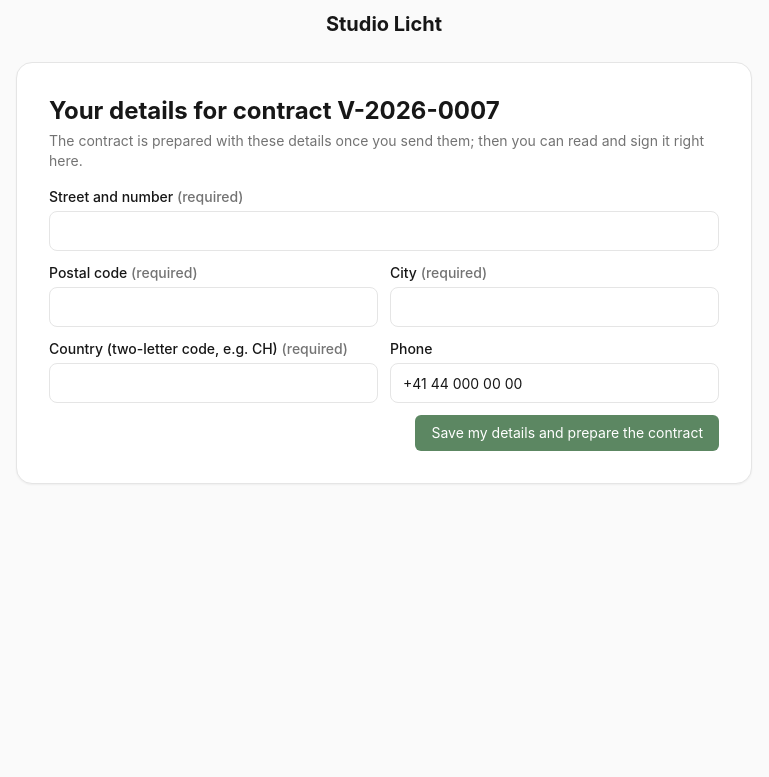
Test: asks for the details first, shows nothing of the contract, then opens it
This screenshot has width=769, height=777.
Expected: the heading "Your details for contract V-2026-0007" is shown, [49, 96, 500, 125]
Expected: the text "Between the studio and the couple." is not shown
Type "Seestrasse 12" into the field labelled "Street and number (required)" at [384, 231], box [49, 211, 719, 251]
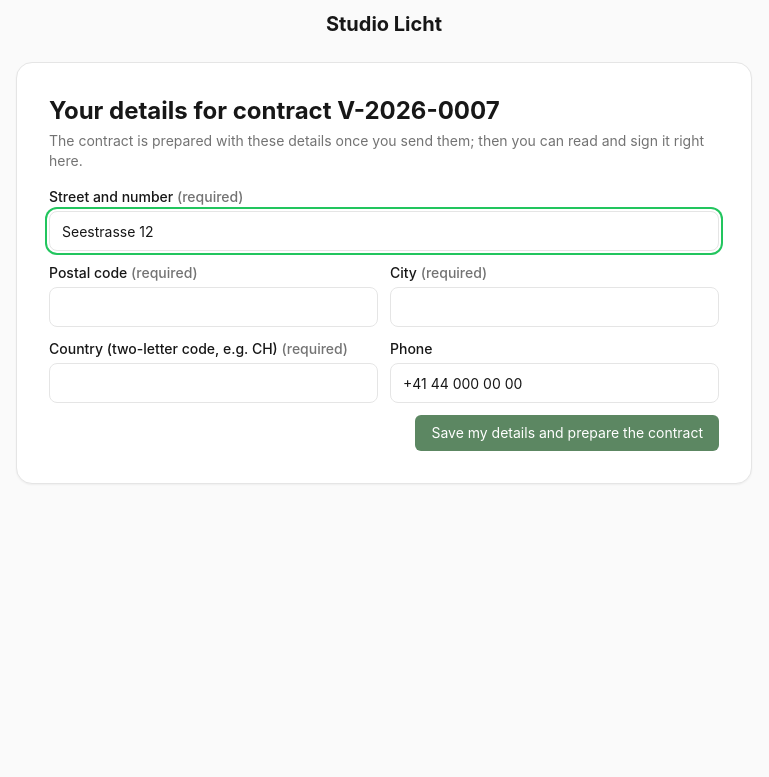
Type "8001" into the field labelled "Postal code (required)" at [214, 307], box [49, 287, 378, 327]
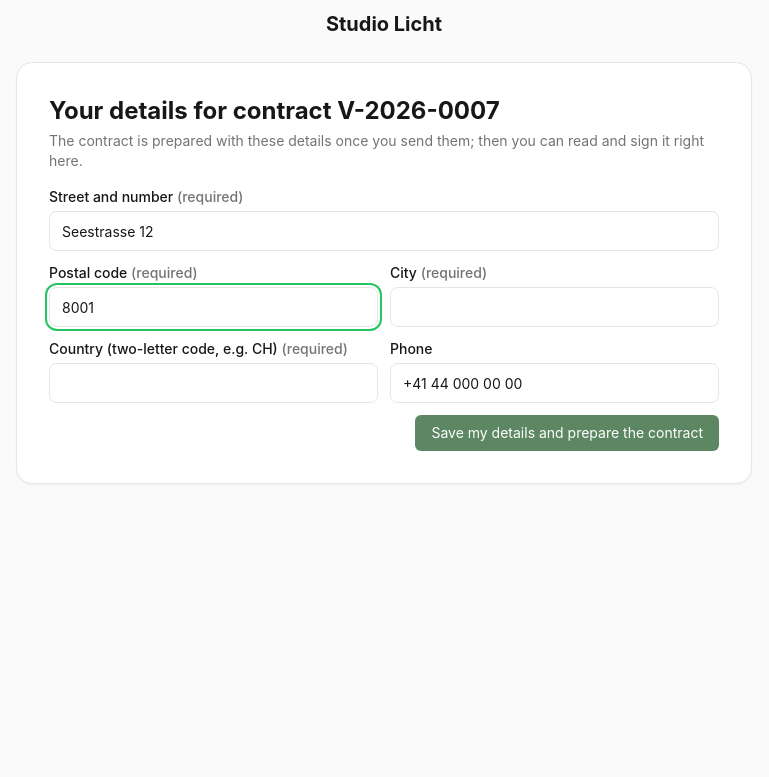
Type "CH" into the field labelled "Country (two-letter code, e.g. CH) (required)" at [214, 383], box [49, 363, 378, 403]
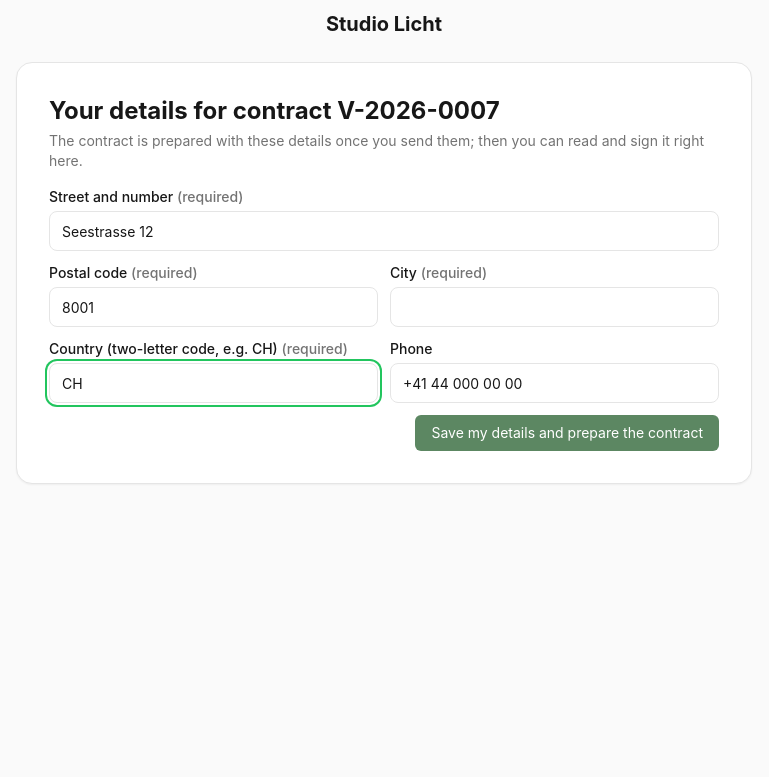
Click the button "Save my details and prepare the contract" at [567, 433], box [415, 415, 719, 451]
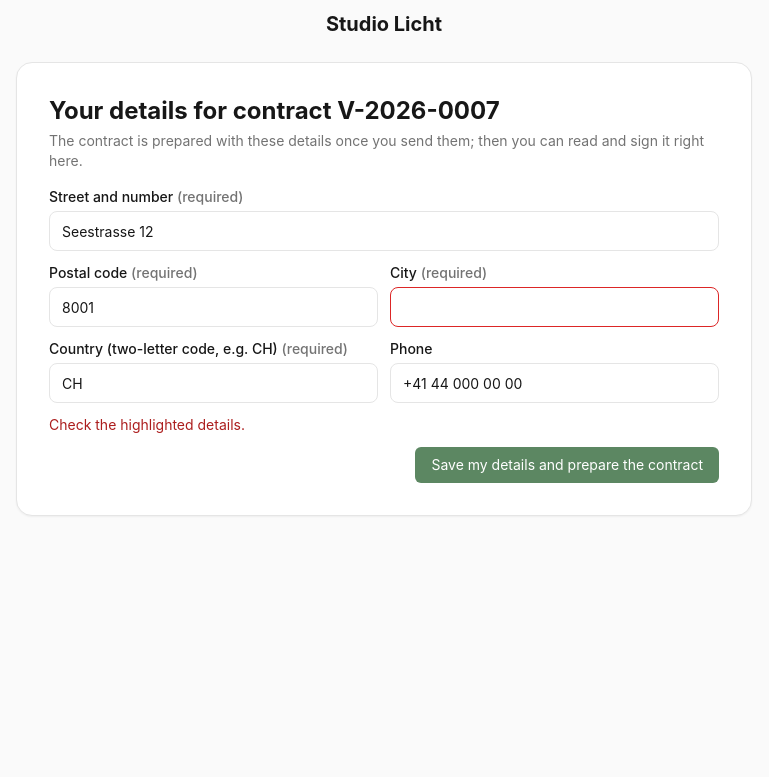
Expected: the message reads "Check the highlighted details.", [49, 416, 245, 433]
Type "Zürich" into the field labelled "City (required)" at [554, 307], box [390, 287, 719, 327]
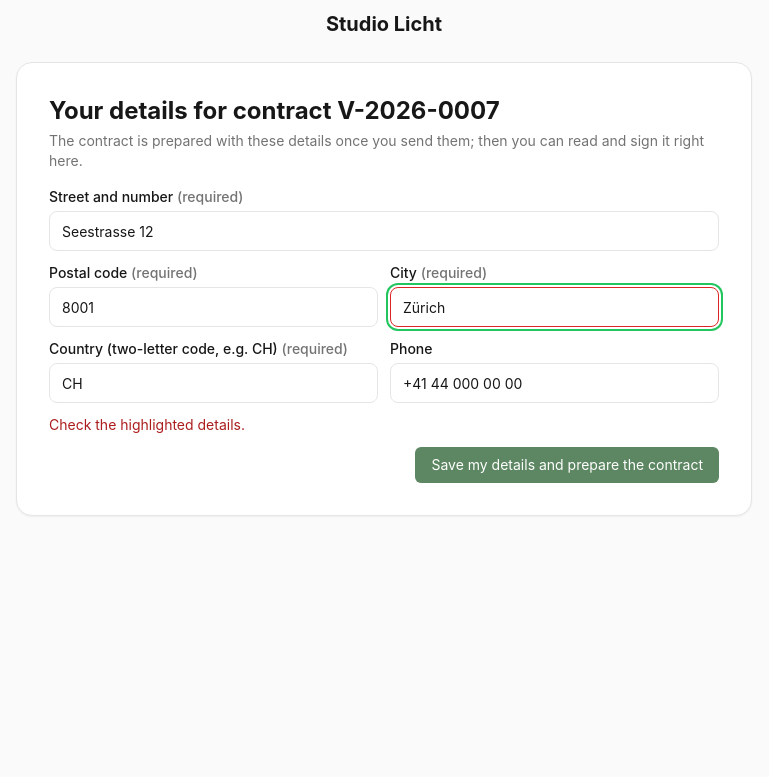
Click the button "Save my details and prepare the contract" at [567, 465], box [415, 447, 719, 483]
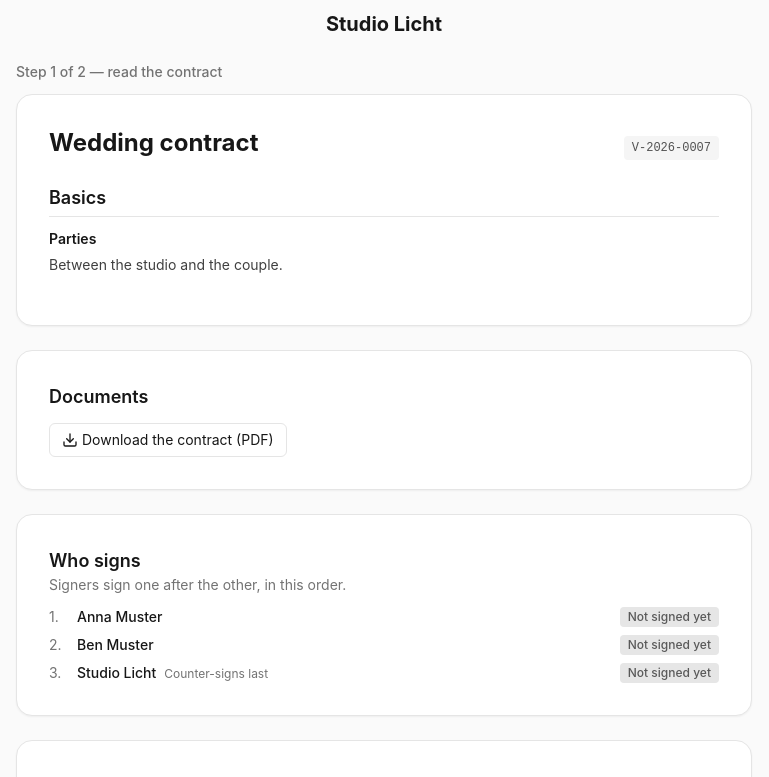
Expected: the heading "Wedding contract" is shown, [49, 127, 258, 159]
